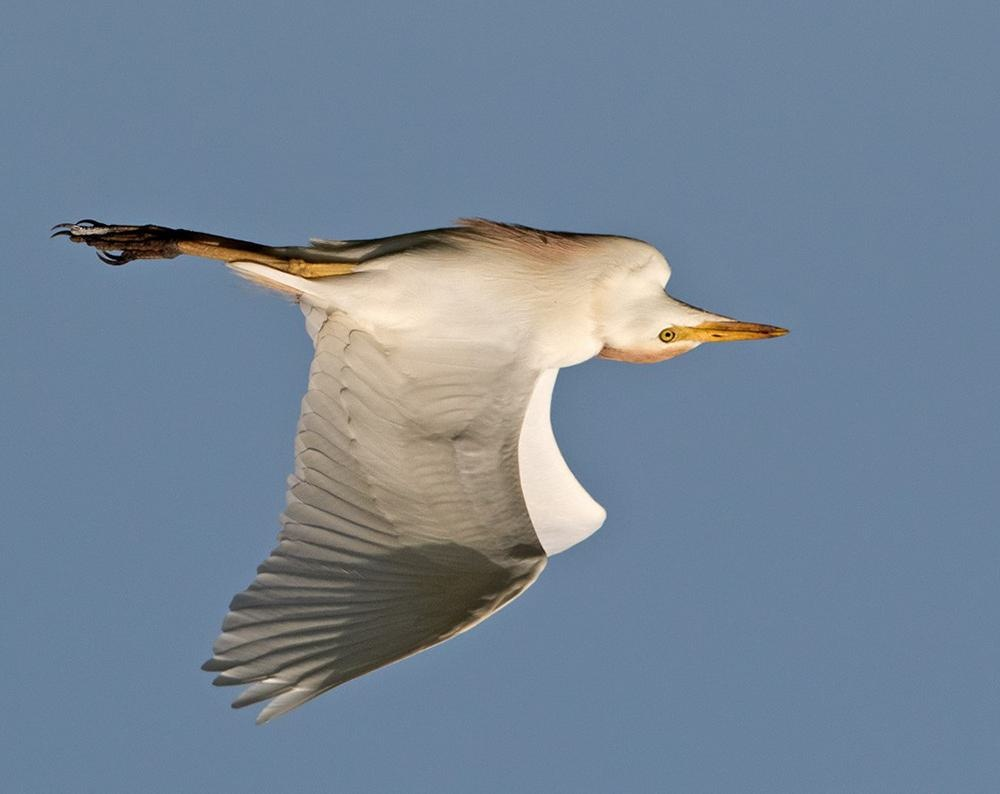egret: (63, 177, 803, 730)
